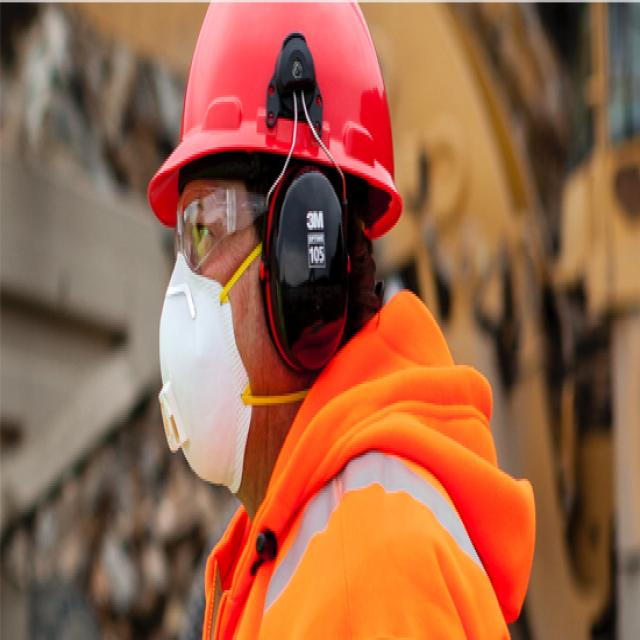Reflective-Jacket: (201, 358, 519, 640)
Safety-Helmet: (150, 5, 404, 246)
